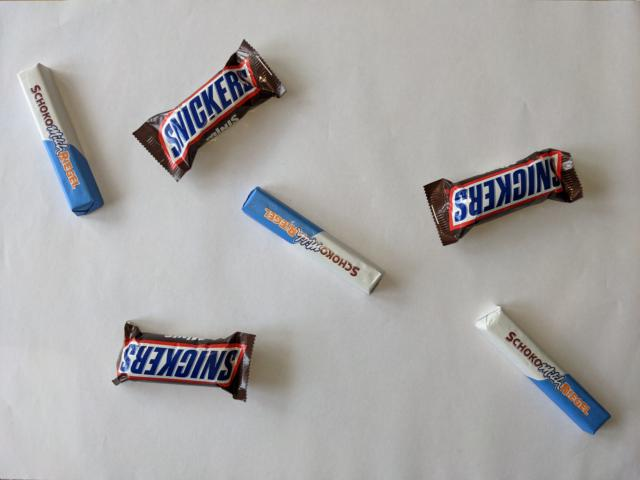Schokoriegel: (471, 300, 614, 437), (239, 185, 388, 298), (13, 59, 106, 218)
Snickers: (129, 37, 289, 185), (421, 146, 585, 248), (110, 318, 257, 405)
